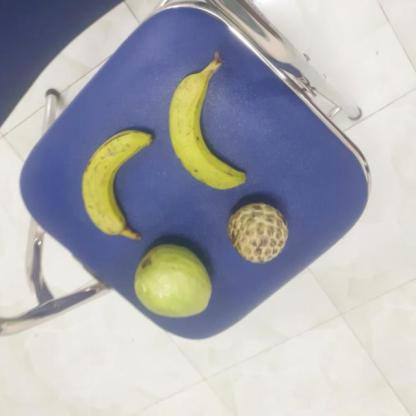annona: (229, 202, 291, 263)
banana: (168, 69, 249, 191), (81, 132, 159, 240)
guava: (132, 242, 214, 320)
